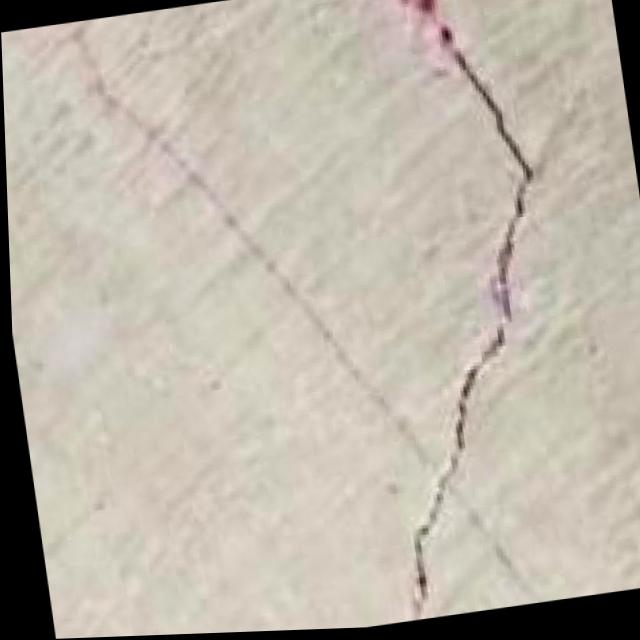Crack: (278, 0, 613, 631)
